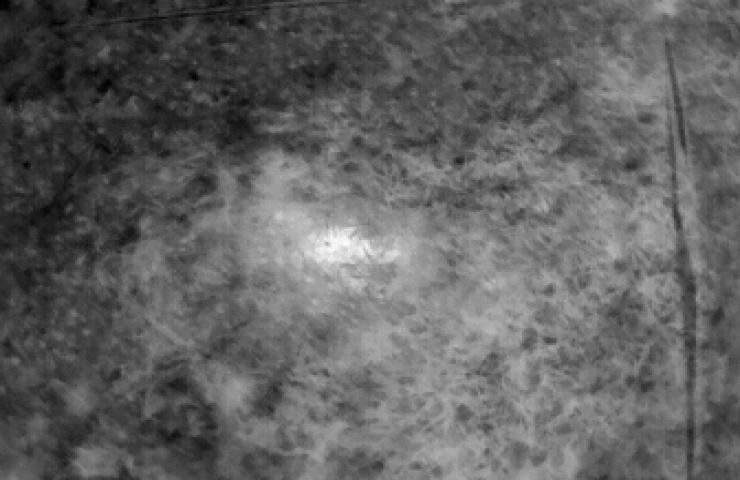landmines: (297, 226, 380, 271)
